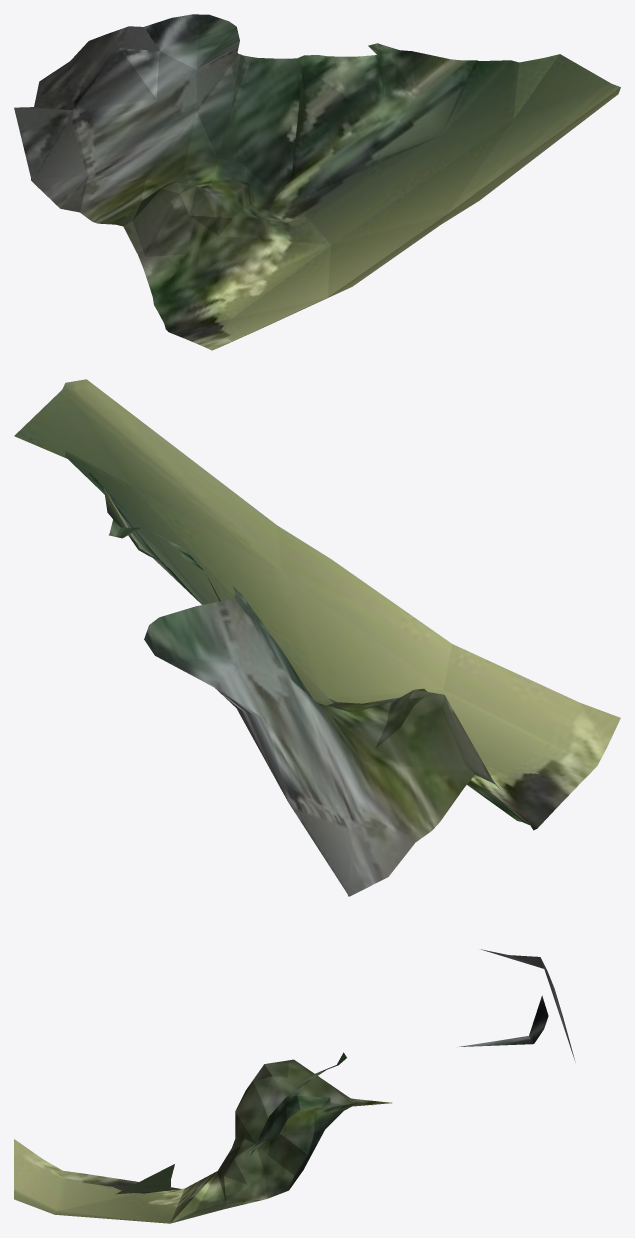
3 renders of one model, top to bottom at view 1: azimuth 30°, elevation 25°; view 2: azimuth 150°, elevation 25°; view 3: azimuth 270°, elevation 25°, orthographic. The views are drawn at different scales.
Bounding box in the file's own units: 15.01 × 6.77 × 14.08.
Materials: 1 (1 with a texture image).
